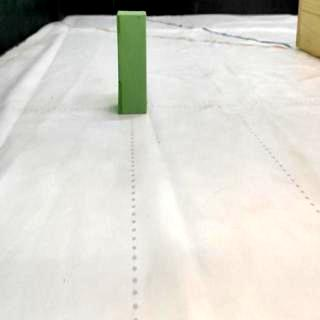greenbox: (116, 8, 148, 116)
